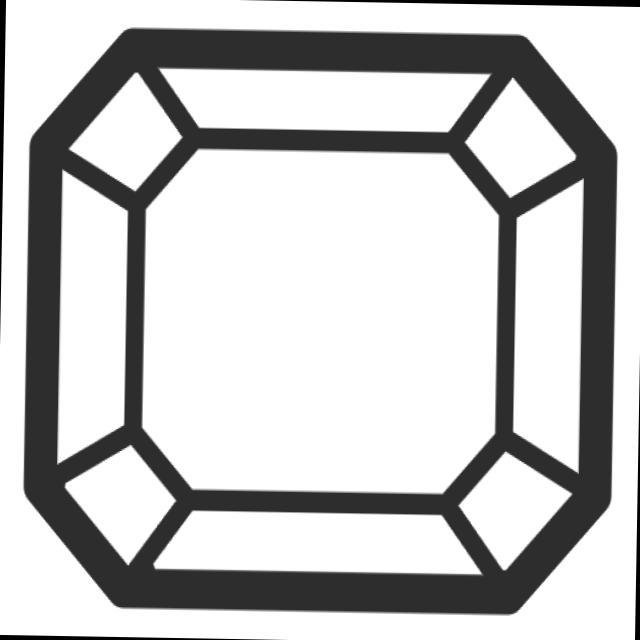emerald: (18, 16, 627, 633)
